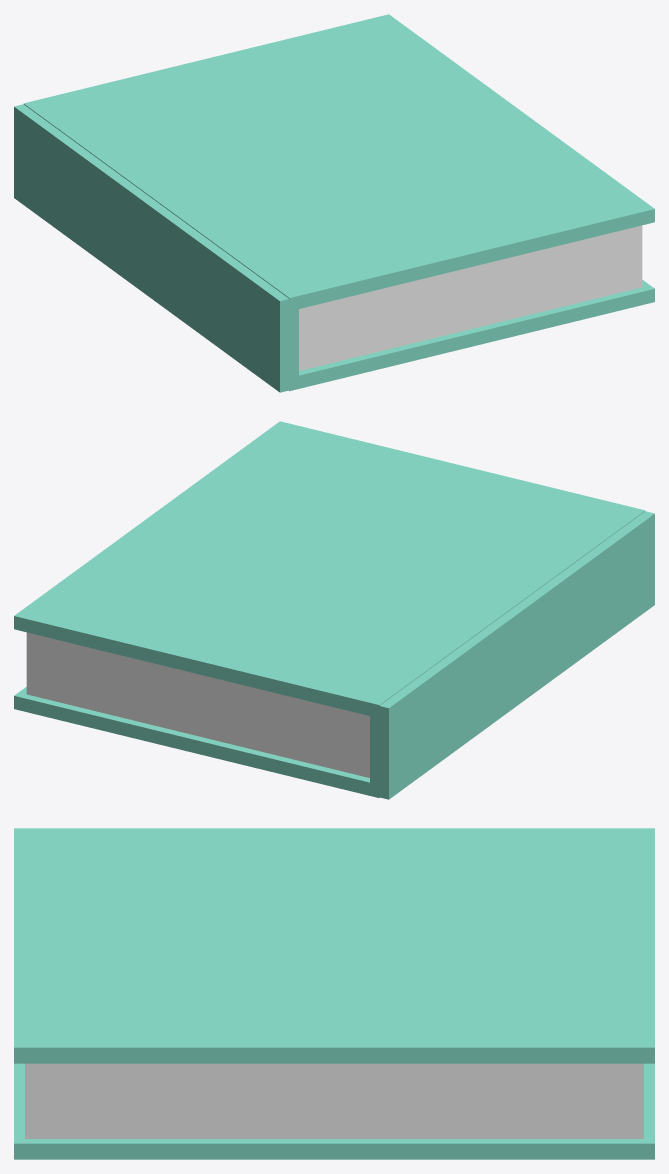
3 views of the same model, one above another, from view 1: azimuth 30°, elevation 25°; view 2: azimuth 150°, elevation 25°; view 3: azimuth 270°, elevation 25° (orthographic). The views are drawn at different scales.
Visible parts, largest first — view 1: Cover.001, Spine, Pages, Cover; view 2: Cover.001, Spine, Pages, Cover; view 3: Cover.001, Pages, Cover, Spine.
Boxes of the visible parts, left/top/right/bottom form: Cover.001: left=23, top=14, right=654, bottom=311; Spine: left=14, top=104, right=298, bottom=392; Pages: left=299, top=225, right=642, bottom=370; Cover: left=289, top=280, right=654, bottom=391; Cover.001: left=14, top=421, right=645, bottom=718; Spine: left=370, top=511, right=654, bottom=799; Pages: left=26, top=632, right=369, bottom=777; Cover: left=14, top=687, right=379, bottom=798; Cover.001: left=14, top=832, right=654, bottom=1063; Pages: left=25, top=1063, right=643, bottom=1138; Cover: left=14, top=1063, right=654, bottom=1159; Spine: left=14, top=828, right=654, bottom=832.
Size of the model in its own units: 0.236 by 0.056 by 0.29.
1 material, 1 textured.
